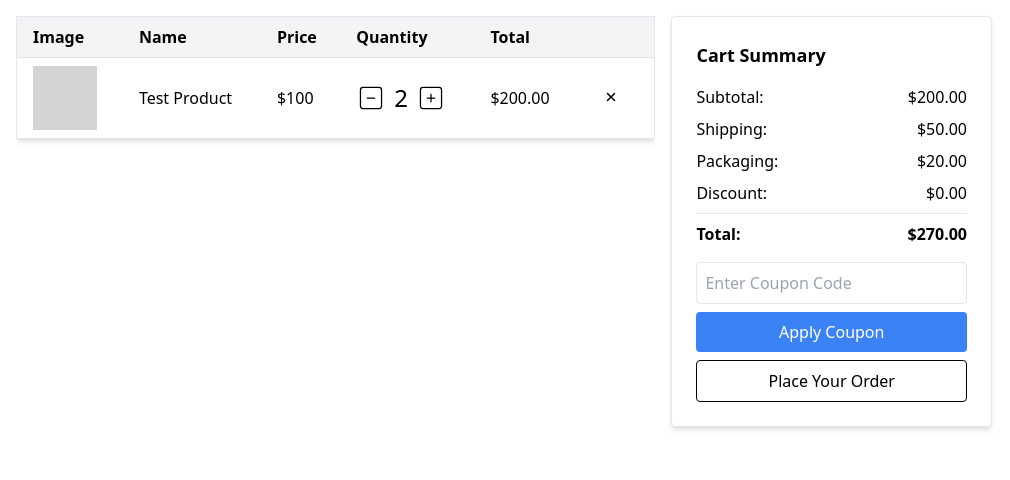
Test case: CartPage Component › Should apply a valid coupon and update discount
Type "DISCOUNT10" into the field with placeholder "Enter Coupon Code".
click(832, 283); type("DISCOUNT10")  # box [696,262,967,304]
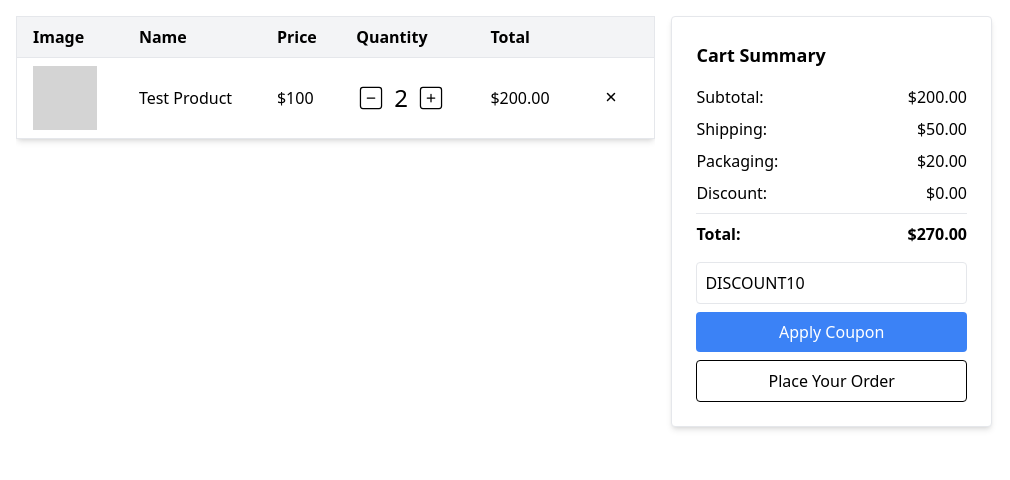
Click the button with test id "apply-coupon-button".
click(832, 332)  # box [696,312,967,352]
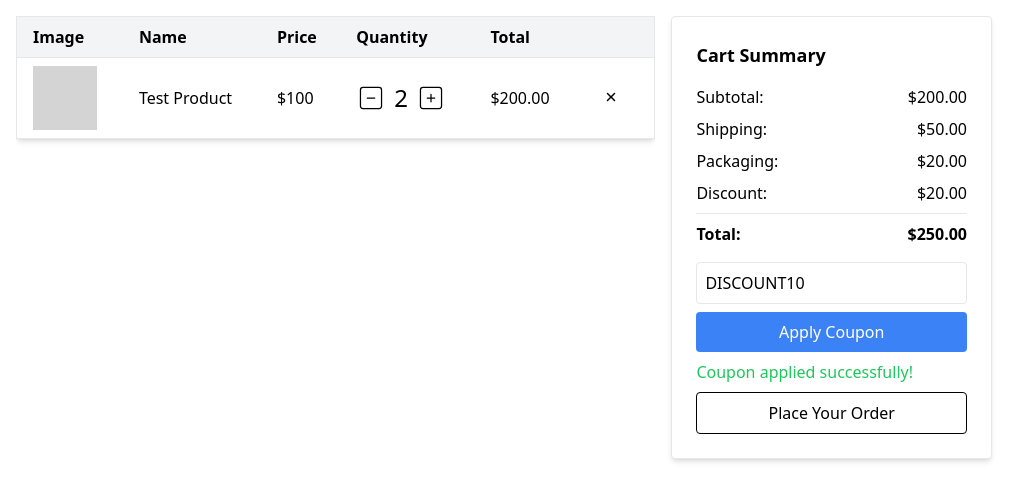
Result: the text with test id "coupon-message" reads "Coupon applied successfully!" at [696,361,913,383]
